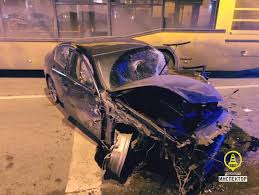car: (43, 32, 250, 185)
